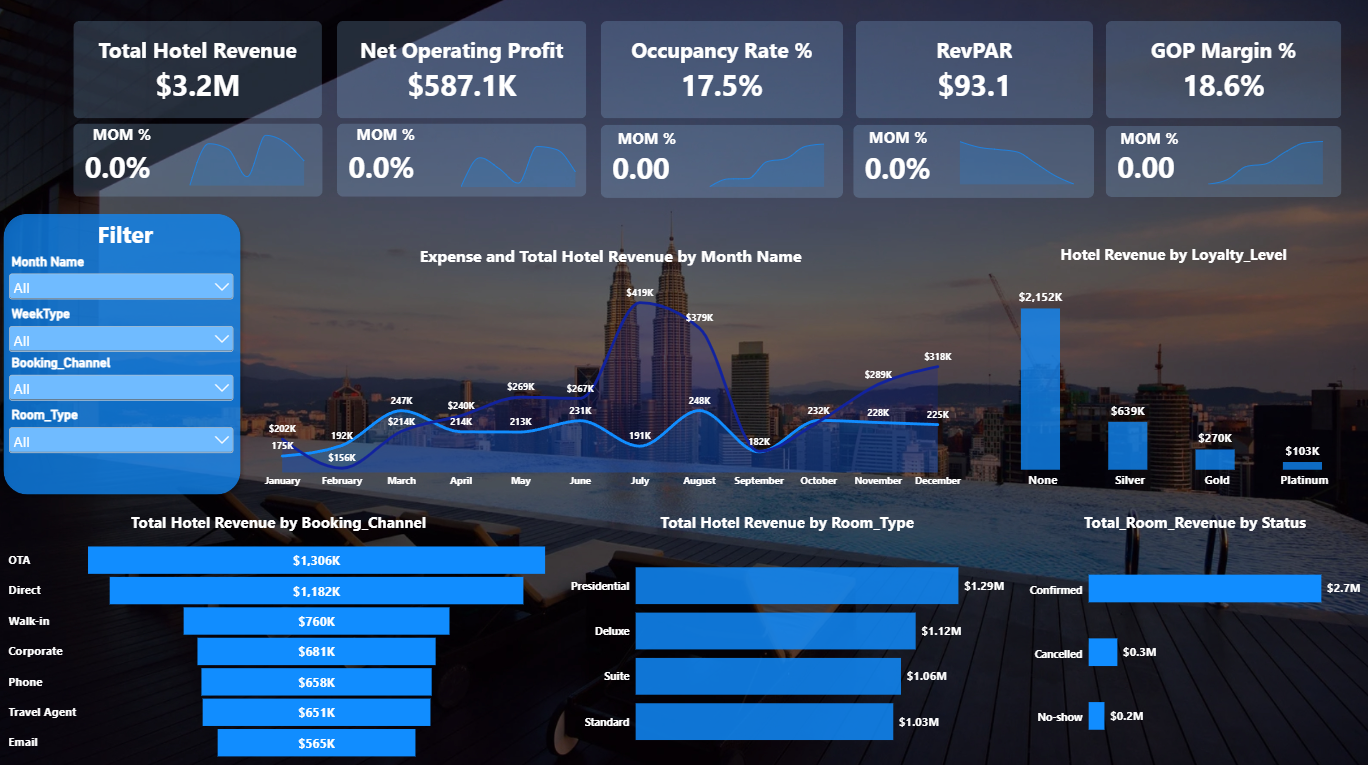

Layout of this report page (visuals, bound fields, positions):
{"tool":"powerbi","page":{"name":"Over_view","canvas":[1920,1080],"ordinal":1},"visuals":[{"type":"cardVisual","fields":{"Data":["measure.Net Operating Profit"]},"box":[474.4,34.9,348.8,136],"z":0},{"type":"cardVisual","fields":{"Data":["measure.Occupancy Rate %"]},"box":[842.4,34.9,338.4,136],"z":1000},{"type":"cardVisual","fields":{"Data":["measure.RevPAR"]},"box":[1198.3,34.9,331.4,136],"z":2000},{"type":"cardVisual","fields":{"Data":["measure.GOP Margin %"]},"box":[1547.1,34.9,329.7,136],"z":3000},{"type":"lineChart","fields":{"Category":["Dim_Date.Month Name"],"Y":["Sum(Expenses.Amount)","measure.Total Hotel Revenue"]},"box":[348.8,331.4,1015.1,375],"z":4000},{"type":"funnel","fields":{"Category":["Reservations.Booking_Channel"],"Y":["measure.Total Hotel Revenue"]},"box":[0,704.2,785.8,376.2],"z":5000},{"type":"barChart","fields":{"Category":["Reservations.Room_Type"],"Y":["measure.Total Hotel Revenue"]},"box":[783.9,704.2,639.4,376.2],"z":6000},{"type":"barChart","fields":{"Category":["Reservations.Status"],"Y":["Sum(Reservations.Total_Room_Revenue)"]},"box":[1423.3,704.2,496.7,376.2],"z":7000},{"type":"clusteredColumnChart","fields":{"Category":["Guests.Loyalty_Level"],"Y":["measure.Total Hotel Revenue"]},"box":[1364,331.7,556,376.2],"z":8000},{"type":"cardVisual","fields":{"Data":["measure.Previous Month Revenue"]},"box":[106.4,177.9,348.8,102.9],"z":9000},{"type":"cardVisual","fields":{"Data":["measure.Total Hotel Revenue"]},"box":[106.4,34.9,347.1,136],"z":10000},{"type":"textbox","box":[106.4,177.9,136,40.1],"z":11000},{"type":"lineChart","fields":{"Category":["Dim_Date.Day Name"],"Y":["measure.Total Hotel Revenue"]},"box":[242.4,170.9,212.8,109.9],"z":12000},{"type":"cardVisual","fields":{"Data":["measure.Profit MoM %"]},"box":[474.4,177.9,348.8,102.9],"z":13000},{"type":"textbox","box":[474.4,177.9,136,40.1],"z":14000},{"type":"cardVisual","fields":{"Data":["measure.Occupancy MoM %"]},"box":[842.4,179.7,338.4,102.9],"z":15000},{"type":"textbox","box":[839.2,182.3,136,40.1],"z":16000},{"type":"cardVisual","fields":{"Data":["measure.RevPAR MoM %"]},"box":[1194.8,179.7,336.6,102.9],"z":17000},{"type":"textbox","box":[1189.1,180.9,136,40.1],"z":18000},{"type":"cardVisual","fields":{"Data":["measure.GOP Margin MoM %"]},"box":[1547.1,181.4,329.7,99.4],"z":19000},{"type":"lineChart","fields":{"Category":["Dim_Date.Day Name"],"Y":["measure.Net Operating Profit"]},"box":[620.9,186.6,212.8,95.9],"z":20000},{"type":"lineChart","fields":{"Category":["Dim_Date.Day Name"],"Y":["measure.RevPAR"]},"box":[1316.9,179.7,212.8,99.4],"z":21000},{"type":"lineChart","fields":{"Category":["Dim_Date.Day Name"],"Y":["measure.Occupancy Rate %"]},"box":[968,183.1,212.8,99.4],"z":22000},{"type":"textbox","box":[1540.9,182.6,136,40.1],"z":23000},{"type":"lineChart","fields":{"Category":["Dim_Date.Day Name"],"Y":["measure.GOP Margin %"]},"box":[1664,179.7,212.8,99.4],"z":24000},{"type":"shape","title":"Filter","box":[0,294.8,348.8,409.9],"z":25000},{"type":"textbox","box":[99.4,310.5,158.7,48.8],"z":26000},{"type":"slicer","fields":{"Values":["Dim_Date.Month Name"]},"box":[12.2,359.3,322.7,73.3],"z":27000},{"type":"slicer","fields":{"Values":["Dim_Date.WeekType"]},"box":[12.2,432.6,322.7,73.3],"z":28000},{"type":"slicer","fields":{"Values":["Reservations.Booking_Channel"]},"box":[12.2,500.6,322.7,73.3],"z":29000},{"type":"slicer","fields":{"Values":["Reservations.Room_Type"]},"box":[12.2,573.8,322.7,73.3],"z":30000}]}

Visuals, with their boxes in screenshot pixels (x1, y1, x2, y2), scaled from the page's 1920x1080 canvas onto the 1368x765 screenshot:
cardVisual - measure.Net Operating Profit: (left=338, top=25, right=587, bottom=121)
cardVisual - measure.Occupancy Rate %: (left=600, top=25, right=841, bottom=121)
cardVisual - measure.RevPAR: (left=854, top=25, right=1090, bottom=121)
cardVisual - measure.GOP Margin %: (left=1102, top=25, right=1337, bottom=121)
lineChart - Dim_Date.Month Name x Sum(Expenses.Amount): (left=249, top=235, right=972, bottom=500)
funnel - Reservations.Booking_Channel x measure.Total Hotel Revenue: (left=0, top=499, right=560, bottom=764)
barChart - Reservations.Room_Type x measure.Total Hotel Revenue: (left=559, top=499, right=1014, bottom=764)
barChart - Reservations.Status x Sum(Reservations.Total_Room_Revenue): (left=1014, top=499, right=1367, bottom=764)
clusteredColumnChart - Guests.Loyalty_Level x measure.Total Hotel Revenue: (left=972, top=235, right=1367, bottom=501)
cardVisual - measure.Previous Month Revenue: (left=76, top=126, right=324, bottom=199)
cardVisual - measure.Total Hotel Revenue: (left=76, top=25, right=323, bottom=121)
textbox: (left=76, top=126, right=173, bottom=154)
lineChart - Dim_Date.Day Name x measure.Total Hotel Revenue: (left=173, top=121, right=324, bottom=199)
cardVisual - measure.Profit MoM %: (left=338, top=126, right=587, bottom=199)
textbox: (left=338, top=126, right=435, bottom=154)
cardVisual - measure.Occupancy MoM %: (left=600, top=127, right=841, bottom=200)
textbox: (left=598, top=129, right=695, bottom=158)
cardVisual - measure.RevPAR MoM %: (left=851, top=127, right=1091, bottom=200)
textbox: (left=847, top=128, right=944, bottom=157)
cardVisual - measure.GOP Margin MoM %: (left=1102, top=128, right=1337, bottom=199)
lineChart - Dim_Date.Day Name x measure.Net Operating Profit: (left=442, top=132, right=594, bottom=200)
lineChart - Dim_Date.Day Name x measure.RevPAR: (left=938, top=127, right=1090, bottom=198)
lineChart - Dim_Date.Day Name x measure.Occupancy Rate %: (left=690, top=130, right=841, bottom=200)
textbox: (left=1098, top=129, right=1195, bottom=158)
lineChart - Dim_Date.Day Name x measure.GOP Margin %: (left=1186, top=127, right=1337, bottom=198)
"Filter" shape: (left=0, top=209, right=249, bottom=499)
textbox: (left=71, top=220, right=184, bottom=255)
slicer - Dim_Date.Month Name: (left=9, top=255, right=239, bottom=306)
slicer - Dim_Date.WeekType: (left=9, top=306, right=239, bottom=358)
slicer - Reservations.Booking_Channel: (left=9, top=355, right=239, bottom=407)
slicer - Reservations.Room_Type: (left=9, top=406, right=239, bottom=458)
